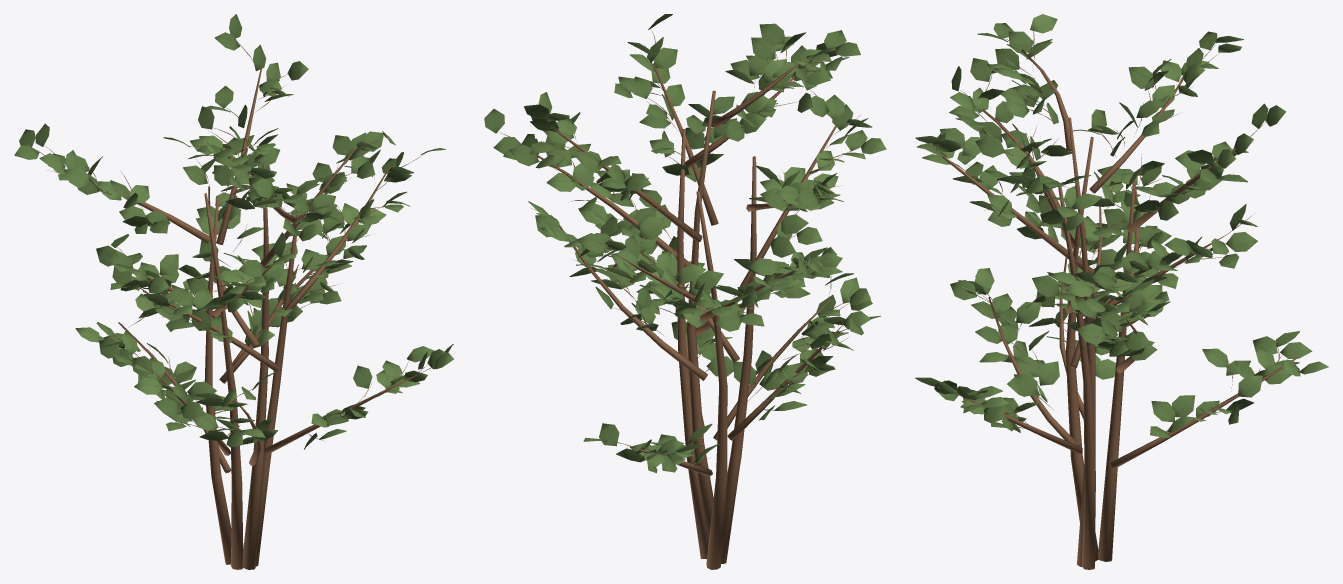
The model's file is Arbousier_1_LOD1.fbx.
The picture shows the model from 3 angles, left to right: view 1: azimuth 30°, elevation 25°; view 2: azimuth 150°, elevation 25°; view 3: azimuth 270°, elevation 25°; orthographic projection. The views are drawn at different scales.
Parts seen in each view (by area): view 1: Arbousier_1_LOD1; view 2: Arbousier_1_LOD1; view 3: Arbousier_1_LOD1.
Boxes of the visible parts, left/top/right/bottom form: Arbousier_1_LOD1: left=14, top=14, right=453, bottom=569; Arbousier_1_LOD1: left=484, top=14, right=886, bottom=569; Arbousier_1_LOD1: left=915, top=14, right=1328, bottom=569.
Bounding box in the file's own units: 296 × 350 × 263.
